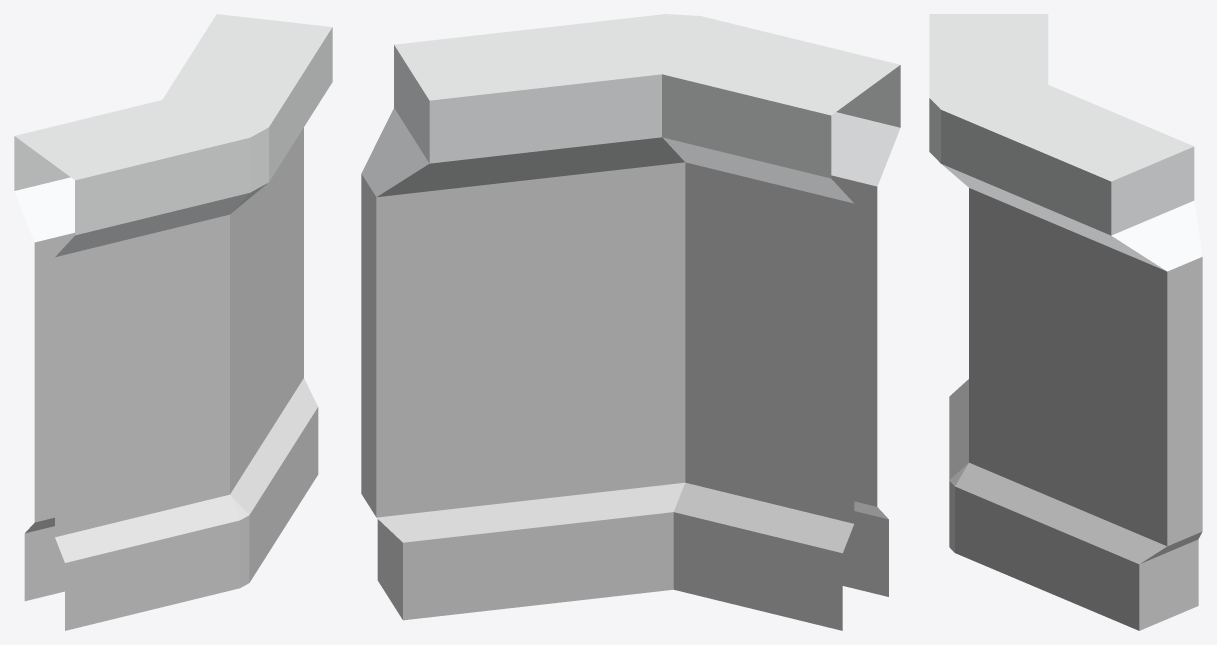
The model's file is wall_f_r.fbx.
3 renders of one model, left to right at view 1: azimuth 30°, elevation 25°; view 2: azimuth 150°, elevation 25°; view 3: azimuth 270°, elevation 25°, orthographic. The views are drawn at different scales.
Visible parts, largest first — view 1: wall_f_r; view 2: wall_f_r; view 3: wall_f_r.
Part boxes in pixels (bbox=[...]): wall_f_r: bbox=[14, 14, 332, 630]; wall_f_r: bbox=[361, 14, 900, 630]; wall_f_r: bbox=[929, 14, 1202, 630].
Size of the model in its own units: 2 by 2.5 by 1.38.
